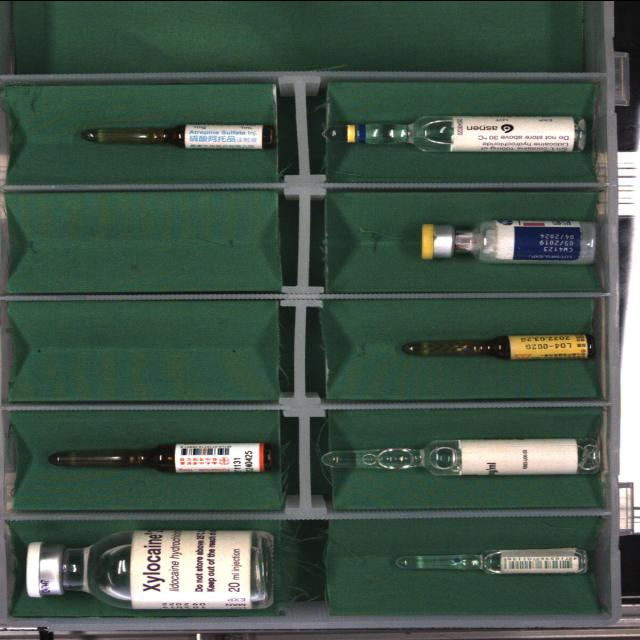Vials: (26, 530, 273, 609), (422, 219, 596, 264), (436, 236, 447, 240)
